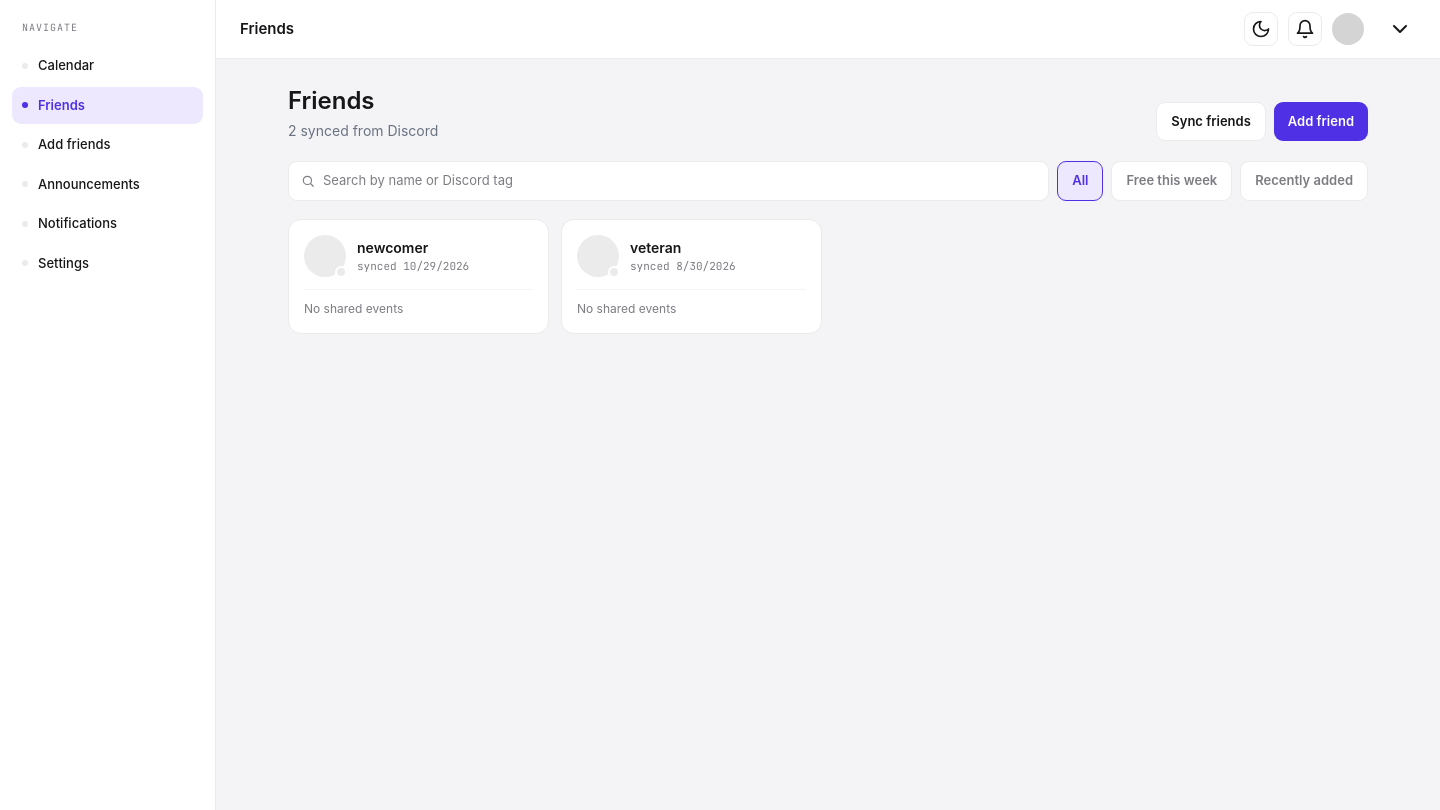
Test: friends directory page › the filter chips › goes back to everyone
Expected: the text "veteran" is shown, [630,239,681,256]
Click the button "Recently added". click: (1304, 181)
box: [1240,161,1368,200]
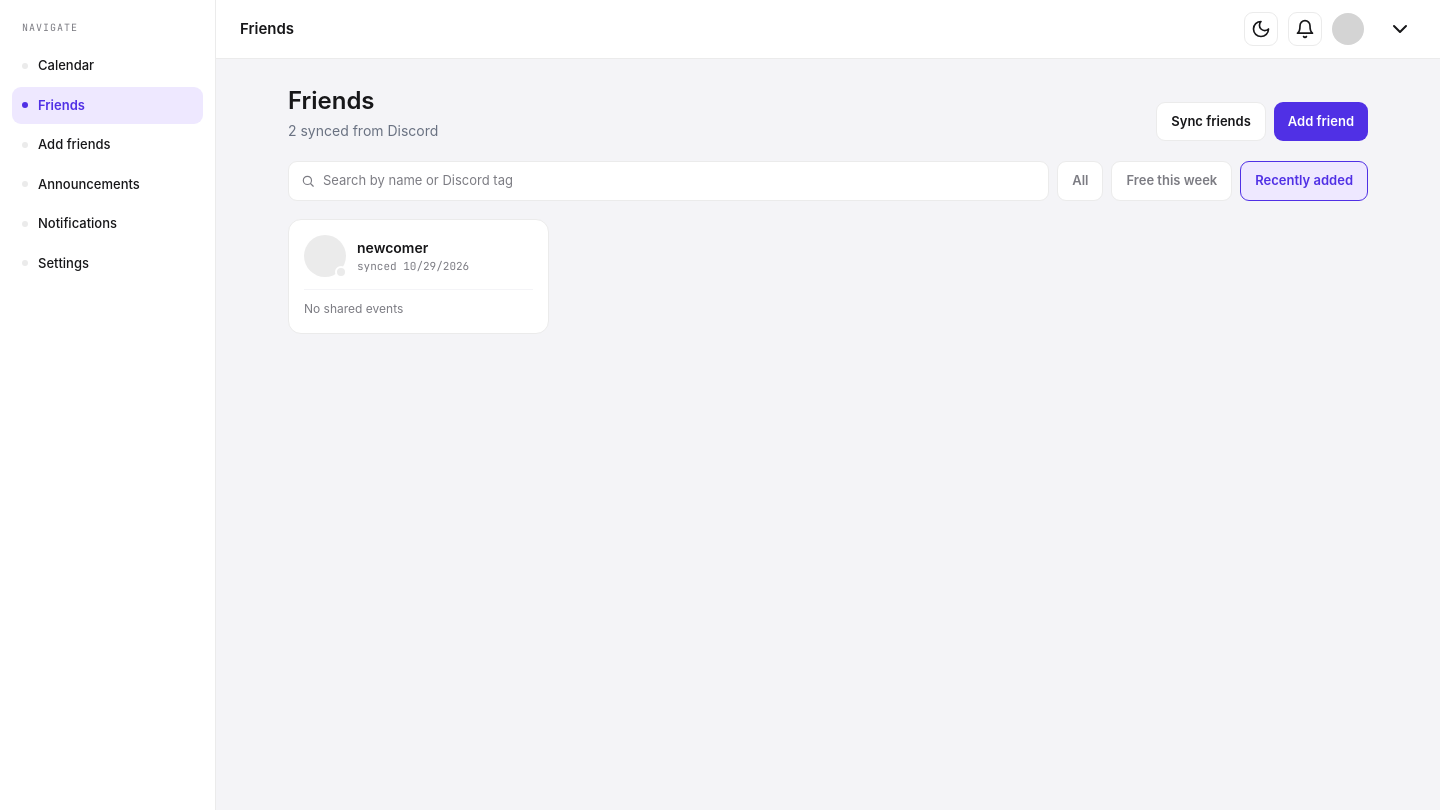
Click the button "All". click: (1080, 181)
box: [1057,161,1104,200]
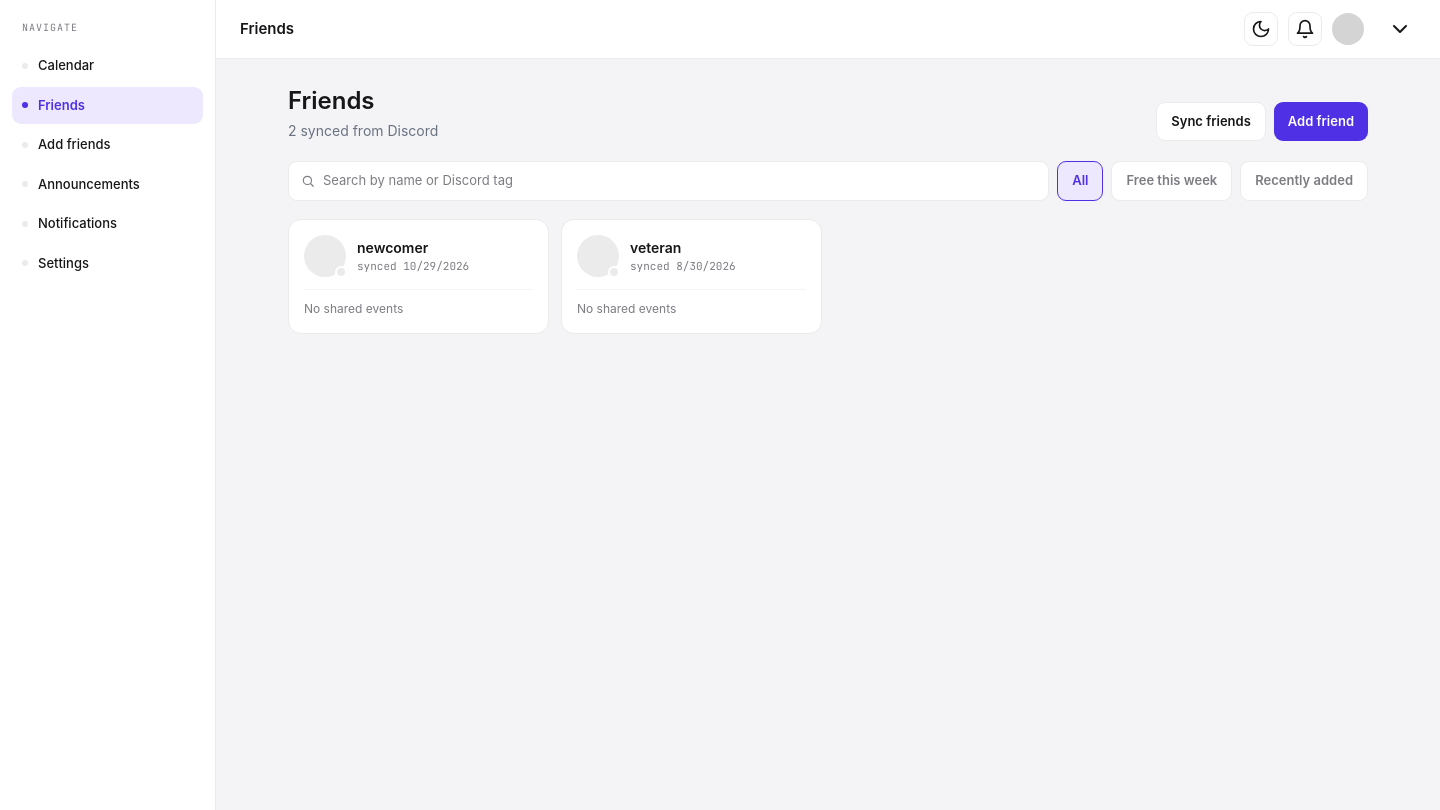
Now the text "veteran" is shown, box [630,239,681,256]
